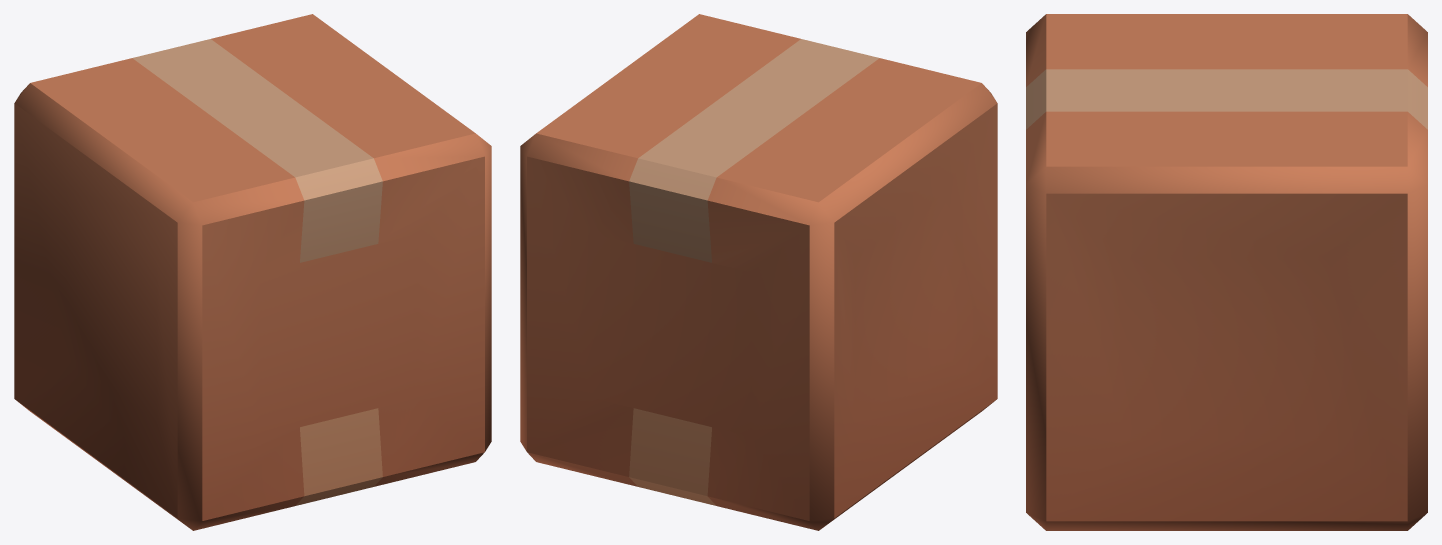
File: survival-box.glb
3 views of the same model, side by side, from view 1: azimuth 30°, elevation 25°; view 2: azimuth 150°, elevation 25°; view 3: azimuth 270°, elevation 25° (orthographic). The views are drawn at different scales.
Visible parts, largest first — view 1: survival-box; view 2: survival-box; view 3: survival-box.
Part boxes in pixels (box(x1,y1,x2,y2)): survival-box: box(14, 14, 491, 530); survival-box: box(520, 14, 997, 530); survival-box: box(1026, 14, 1427, 530).
Bounding box in the file's own units: 0.25 × 0.25 × 0.25.
